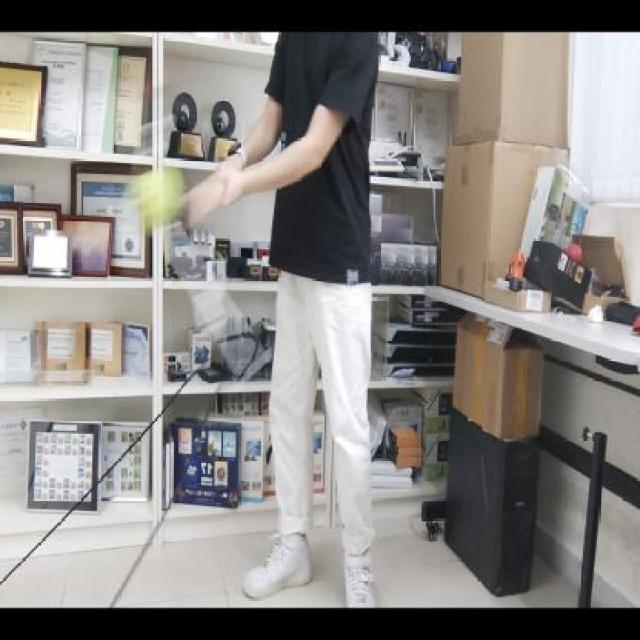baseball: (126, 167, 189, 235)
